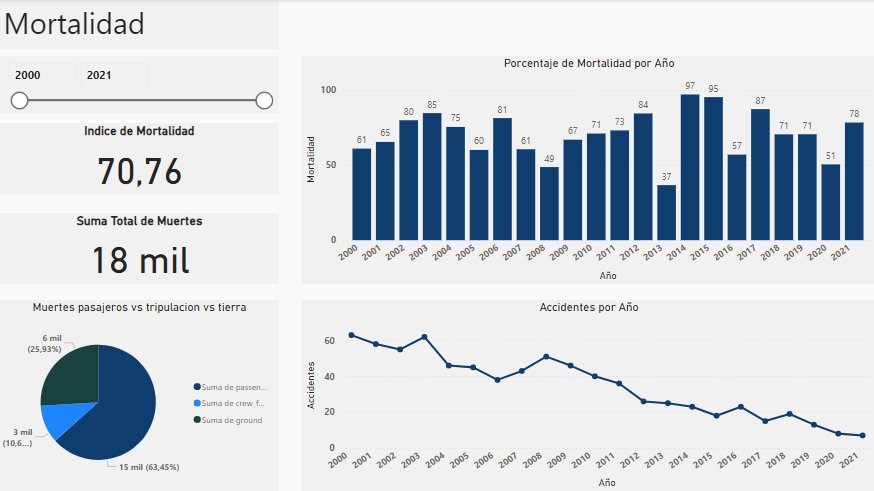

What the dashboard file says about the page in this screenshot:
{"tool":"powerbi","page":{"name":"Mortalidad","canvas":[1280,720],"ordinal":1},"visuals":[{"type":"lineChart","title":"Accidentes por Año","fields":{"Category":["mortalidad.year.Variación.Jerarquía de fechas.Año"],"Y":["Sum(mortalidad.accidentes)"]},"box":[441.1,439.6,838.3,280.4],"z":0},{"type":"clusteredColumnChart","title":"Porcentaje de Mortalidad por Año","fields":{"Category":["mortalidad.year.Variación.Jerarquía de fechas.Año"],"Y":["Sum(mortalidad.porcentaje)"]},"box":[441.4,82.9,838.6,332.9],"z":1000},{"type":"pieChart","title":"Muertes pasajeros vs tripulacion vs  tierra","fields":{"Y":["Sum(mortalidad.passenger_fatalities)","Sum(mortalidad.crew_fatalities)","Sum(mortalidad.ground)"]},"box":[0,440,407.1,280],"z":2000},{"type":"card","title":"Suma Total de Muertes","fields":{"Values":["Sum(mortalidad.total_fatalities)"]},"box":[0,312.9,407.1,102.9],"z":3000},{"type":"card","title":"Indice de Mortalidad","fields":{"Values":["Avg(mortalidad.porcentaje)"]},"box":[0,181.4,407.1,104.3],"z":4000},{"type":"slicer","fields":{"Values":["mortalidad.year.Variación.Jerarquía de fechas.Año"]},"box":[0,82.9,407.1,82.9],"z":5000},{"type":"textbox","box":[0,0,407.5,73],"z":6000}]}

Visuals, with their boxes in screenshot pixels (x1, y1, x2, y2), scaled from the page's 1280x720 canvas onto the 874x491 screenshot:
"Accidentes por Año" lineChart: (left=301, top=300, right=873, bottom=490)
"Porcentaje de Mortalidad por Año" clusteredColumnChart: (left=301, top=57, right=873, bottom=284)
"Muertes pasajeros vs tripulacion vs  tierra" pieChart: (left=0, top=300, right=278, bottom=490)
"Suma Total de Muertes" card: (left=0, top=213, right=278, bottom=284)
"Indice de Mortalidad" card: (left=0, top=124, right=278, bottom=195)
slicer - mortalidad.year.Variación.Jerarquía de fechas.Año: (left=0, top=57, right=278, bottom=113)
textbox: (left=0, top=0, right=278, bottom=50)
